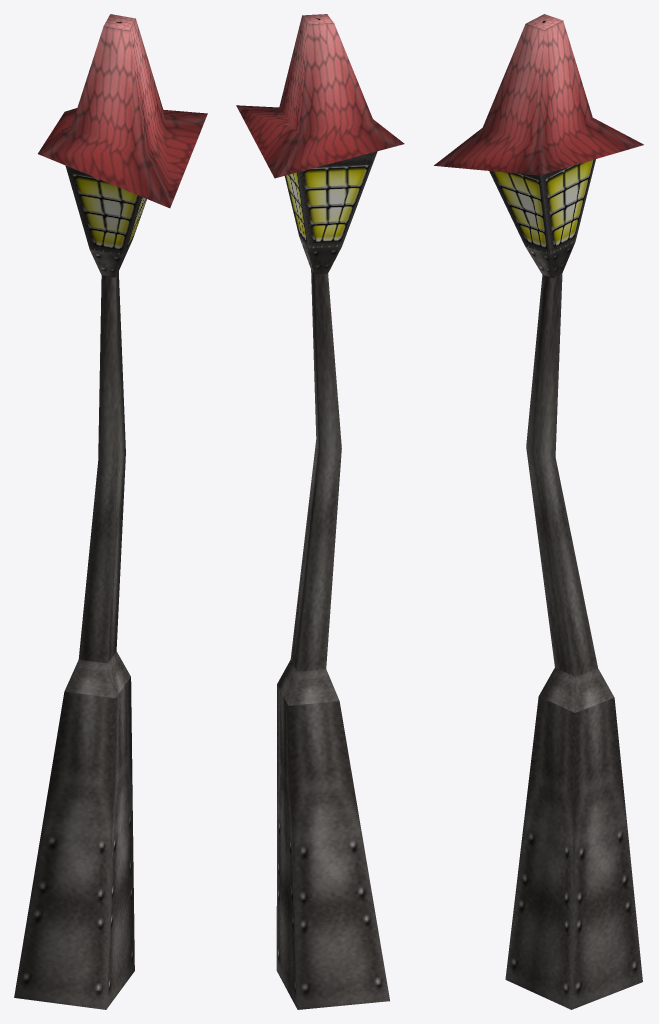
The model's file is light_pole.FBX.
3 renders of one model, left to right at view 1: azimuth 30°, elevation 25°; view 2: azimuth 150°, elevation 25°; view 3: azimuth 270°, elevation 25°, orthographic. The views are drawn at different scales.
Parts seen in each view (by area): view 1: Light-pole_358; view 2: Light-pole_358; view 3: Light-pole_358.
Boxes of the visible parts, x1=… form: Light-pole_358: x1=14, y1=14, x2=207, y2=1009; Light-pole_358: x1=236, y1=14, x2=404, y2=1009; Light-pole_358: x1=434, y1=14, x2=643, y2=1009.
Size of the model in its own units: 48.12 by 254 by 49.74.
